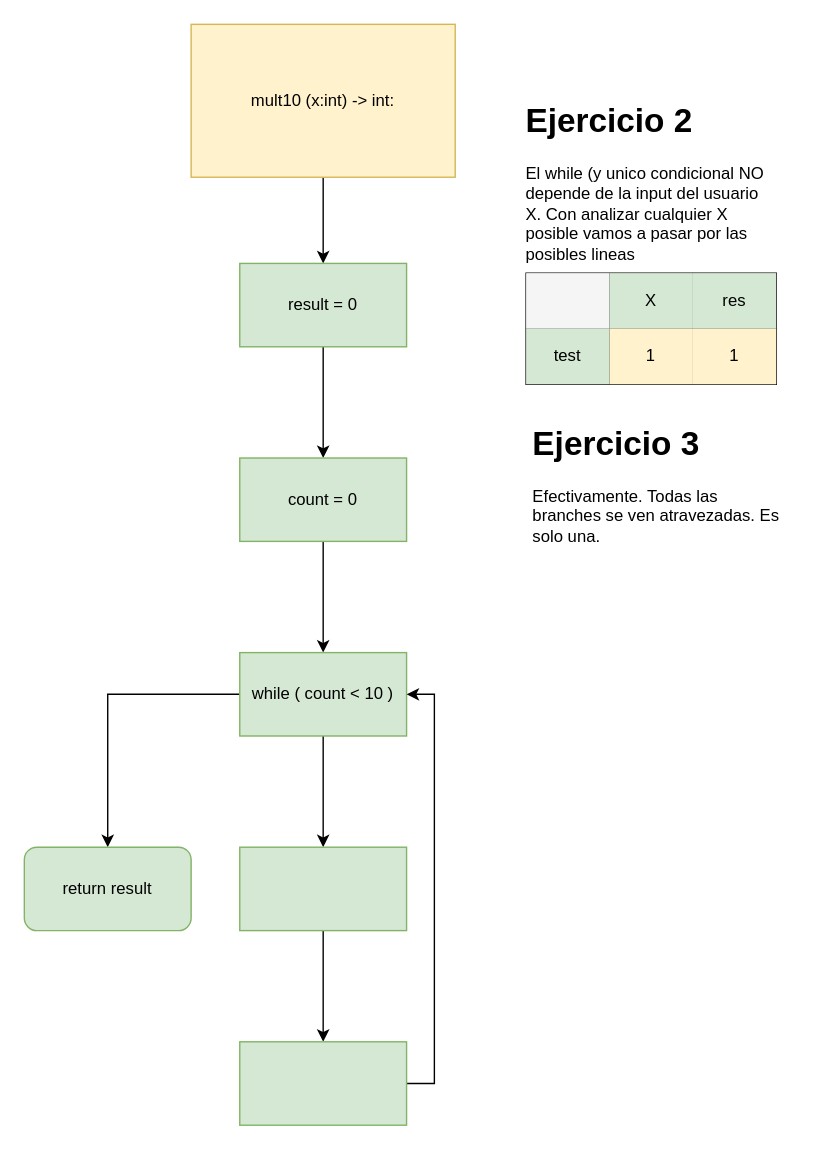
Some shapes in this 815 by 1150 pixel diagram are drawn without their labels. The box of each missing label's shape, as (x1, y1, x2, y2) in pixels:
count = count + 1: (238, 1040, 407, 1125)
result = result + x: (238, 846, 407, 931)
